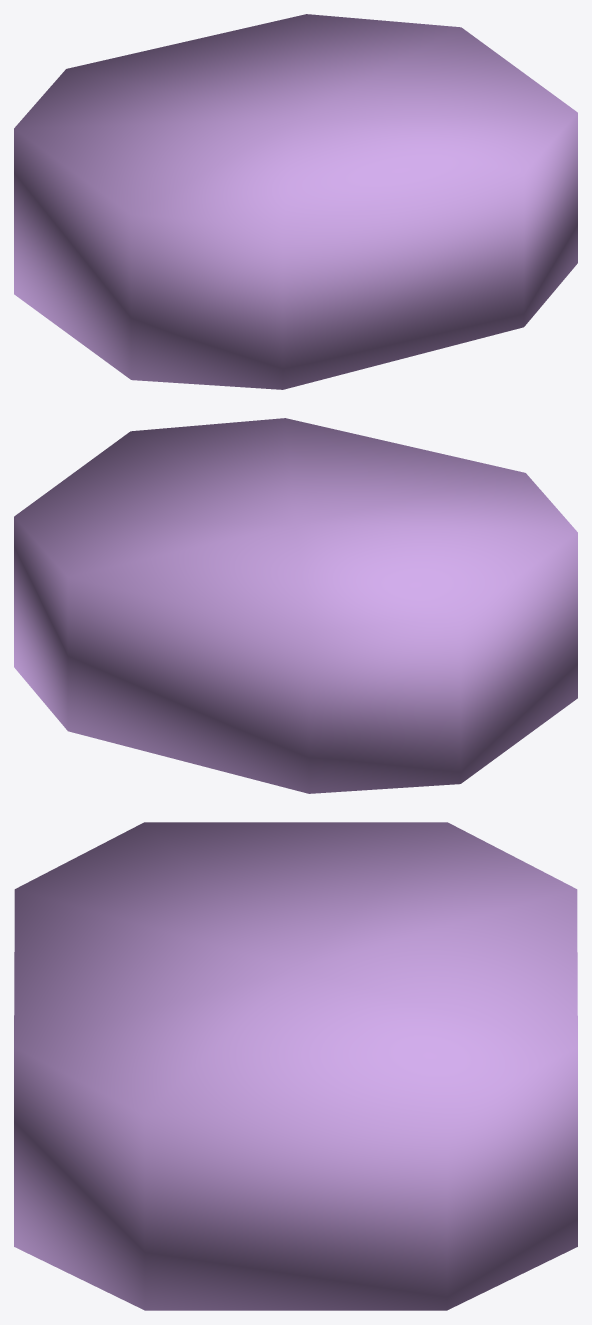
Rendered from G_Background_Connector_A.fbx.
3 renders of one model, top to bottom at view 1: azimuth 30°, elevation 25°; view 2: azimuth 150°, elevation 25°; view 3: azimuth 270°, elevation 25°, orthographic. The views are drawn at different scales.
Parts seen in each view (by area): view 1: G_Background_Connector_A; view 2: G_Background_Connector_A; view 3: G_Background_Connector_A.
Boxes of the visible parts, <box> form: G_Background_Connector_A: <box>14,14,577,389</box>; G_Background_Connector_A: <box>14,418,577,793</box>; G_Background_Connector_A: <box>14,822,577,1310</box>.
Bounding box in the file's own units: 76.04 × 26.94 × 64.05.
